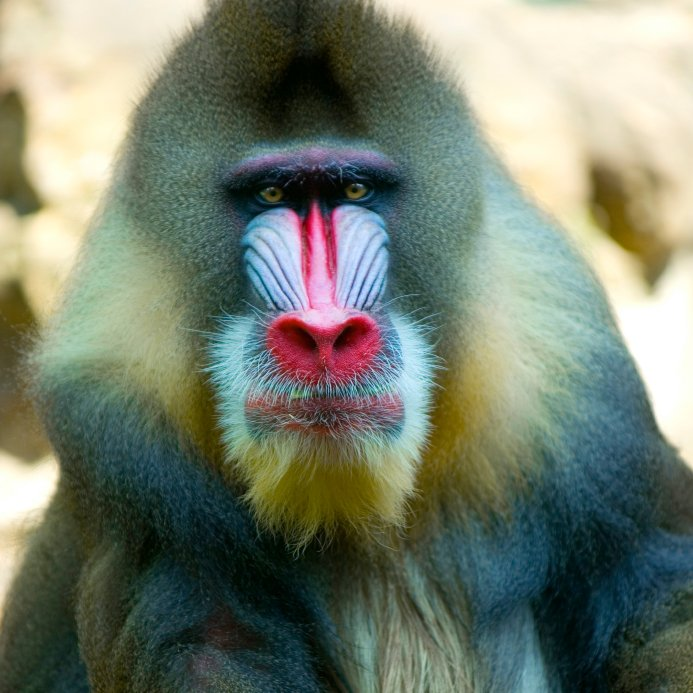Mandrill: (102, 6, 577, 666)
